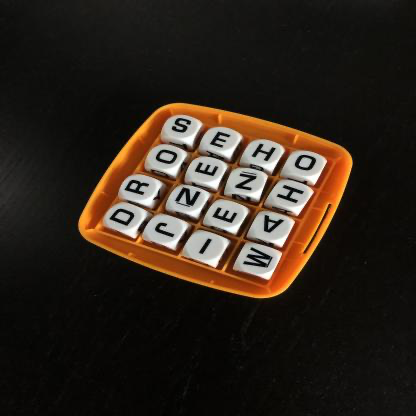a: (250, 214, 290, 243)
d: (105, 207, 144, 234)
e: (210, 202, 245, 228), (189, 158, 225, 182), (205, 128, 237, 153)
h: (241, 139, 282, 166), (270, 182, 309, 209)
j: (147, 217, 184, 246)
l: (187, 231, 227, 260)
n: (168, 187, 209, 215)
o: (286, 151, 325, 178), (150, 147, 185, 170)
r: (123, 176, 159, 203)
s: (164, 118, 199, 139)
w: (235, 245, 279, 275)
z: (229, 170, 265, 195)
